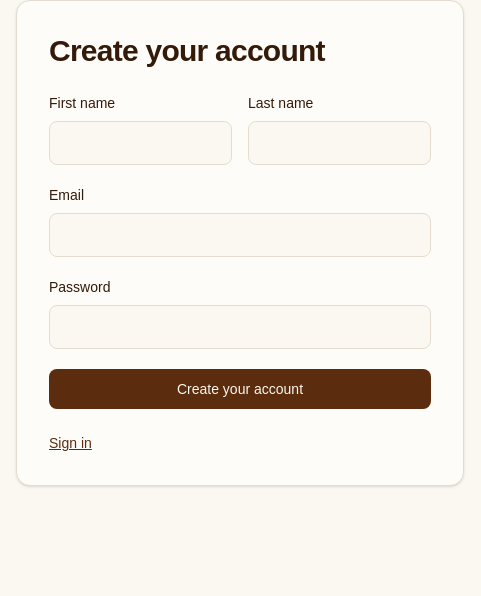
Test case: AccountAuth › shows the neutral registration response
Type "buyer@example.test" into the field labelled "Email".
click(240, 235); type("buyer@example.test")  # box [49,213,431,257]
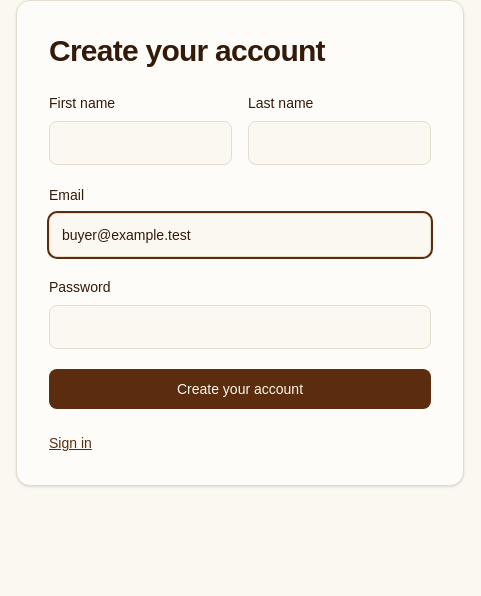
Type "Strong-Password-456!" into the password field labelled "Password".
click(240, 327); type("Strong-Password-456!")  # box [49,305,431,349]
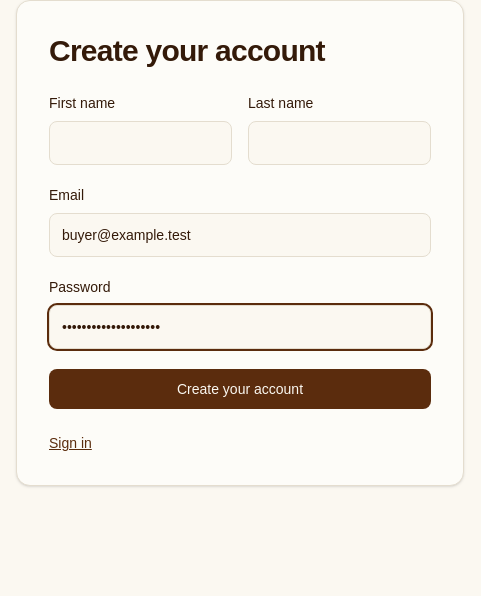
Click the button "Create your account".
click(240, 389)  # box [49,369,431,409]
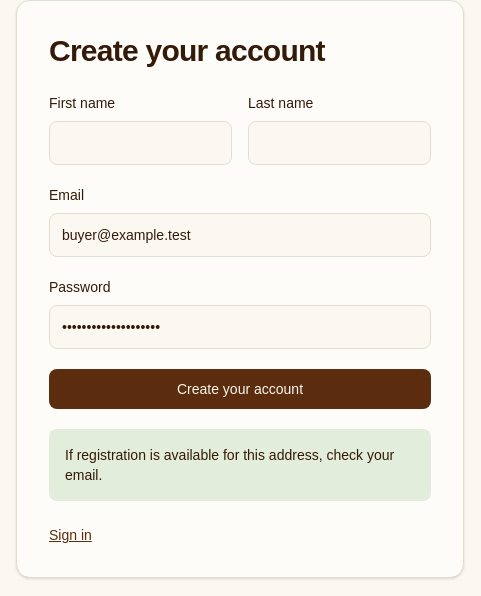
Now the message shows "If registration is available", box [65,447,394,483]
